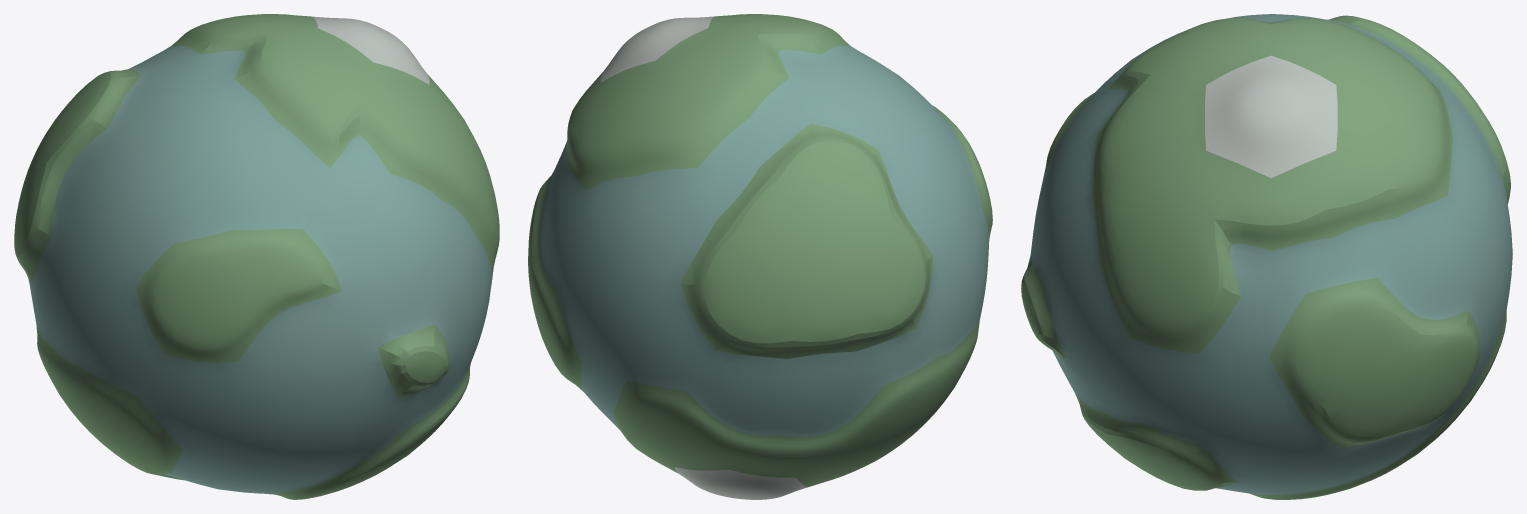
File: q-planet-b7xd3szq0z.glb
The picture shows the model from 3 angles, left to right: view 1: azimuth 30°, elevation 25°; view 2: azimuth 150°, elevation 25°; view 3: azimuth 270°, elevation 25°; orthographic projection. The views are drawn at different scales.
Visible parts, largest first — view 1: Planet_1; view 2: Planet_1; view 3: Planet_1.
Part boxes in pixels (box(x1,y1,x2,y2)): Planet_1: box(14, 14, 499, 499); Planet_1: box(528, 14, 992, 499); Planet_1: box(1021, 14, 1512, 499).
Size of the model in its own units: 3.79 by 3.93 by 3.82.
1 material, 1 textured.
